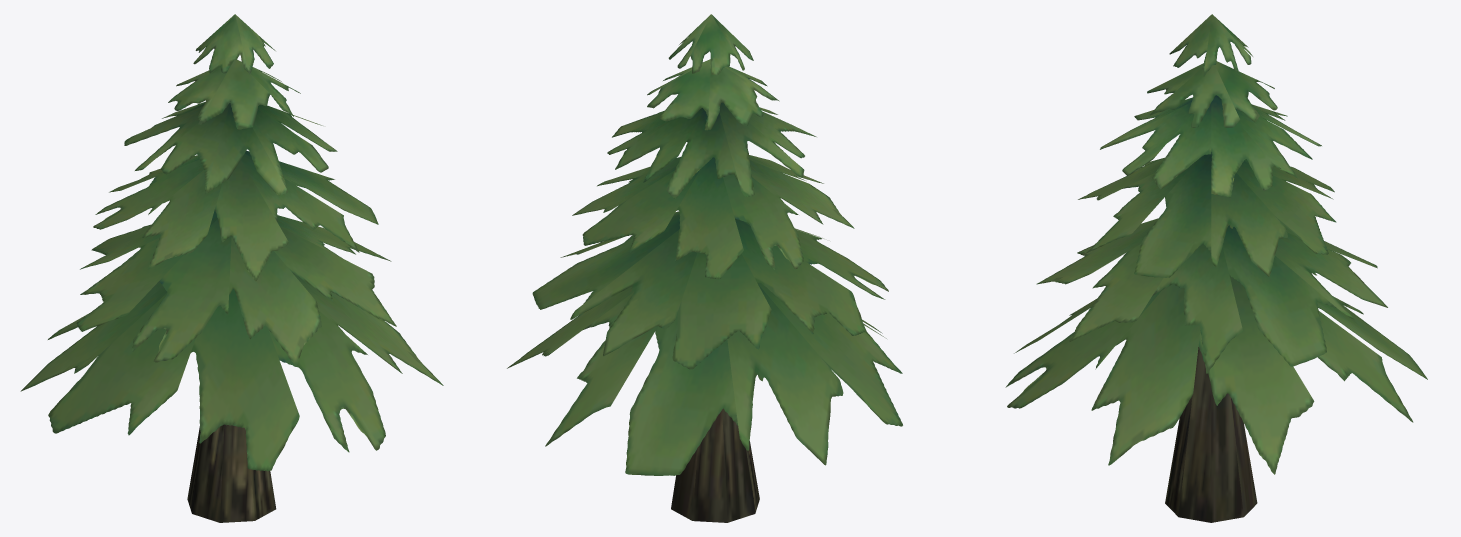
Rendered from pine.fbx.
3 renders of one model, left to right at view 1: azimuth 30°, elevation 25°; view 2: azimuth 150°, elevation 25°; view 3: azimuth 270°, elevation 25°, orthographic.
Parts seen in each view (by area): view 1: pine_top2; view 2: pine_top2; view 3: pine_top2.
Part boxes in pixels (x1,y1,x2,y2): pine_top2: (20, 14, 443, 522); pine_top2: (507, 14, 902, 522); pine_top2: (1005, 14, 1427, 522).
Bounding box in the file's own units: 28.6 × 32.95 × 28.6.
